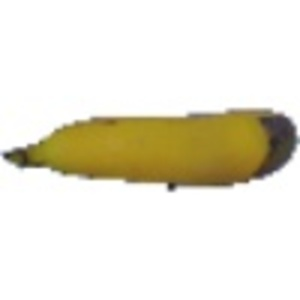banana: (1, 100, 297, 186)
